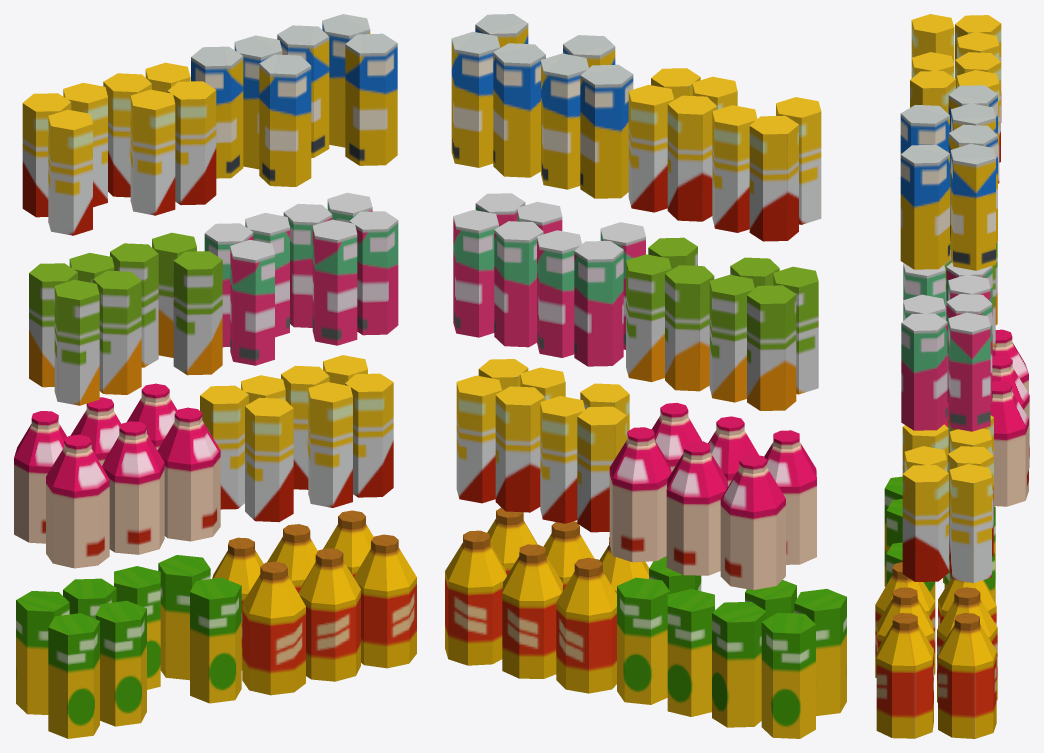
Rendered from SM_Prop_Market_Drinks_Fridge_01_Insert_01.obj.
3 renders of one model, left to right at view 1: azimuth 30°, elevation 25°; view 2: azimuth 150°, elevation 25°; view 3: azimuth 270°, elevation 25°, orthographic. The views are drawn at different scales.
Parts seen in each view (by area): view 1: SM_Prop_Market_Drinks_Fridge_01_Insert_01_0; view 2: SM_Prop_Market_Drinks_Fridge_01_Insert_01_0; view 3: SM_Prop_Market_Drinks_Fridge_01_Insert_01_0.
Part boxes in pixels (x1,y1,x2,y2): SM_Prop_Market_Drinks_Fridge_01_Insert_01_0: [14, 14, 416, 738]; SM_Prop_Market_Drinks_Fridge_01_Insert_01_0: [445, 14, 846, 738]; SM_Prop_Market_Drinks_Fridge_01_Insert_01_0: [875, 14, 1029, 738].
Size of the model in its own units: 0.7881 by 1.27 by 0.3113.
Materials: 1 (1 with a texture image).
